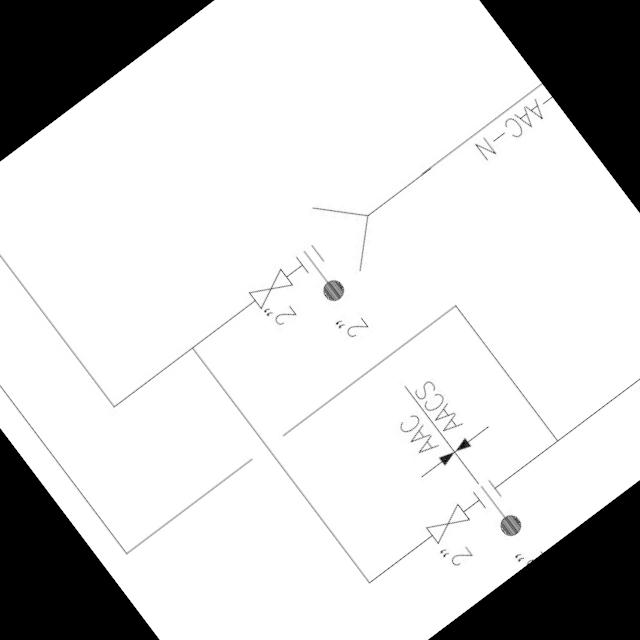GV: (240, 260, 297, 313), (418, 498, 473, 548)
